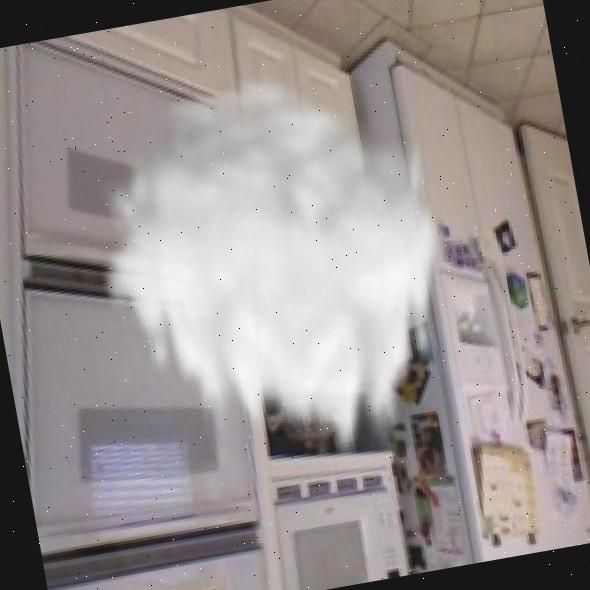smoke: (66, 40, 482, 510)
